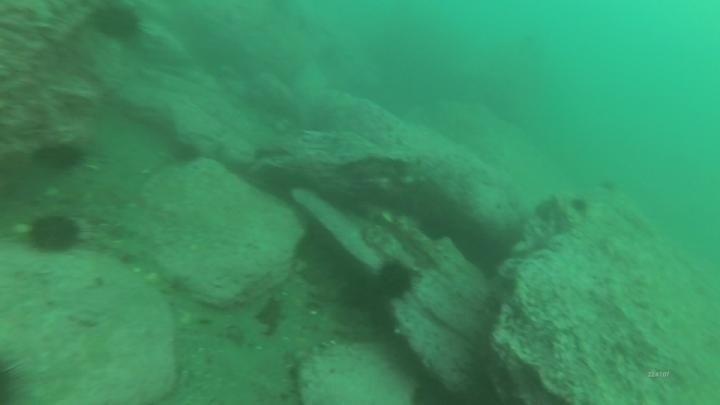echinus: (25, 211, 83, 256), (88, 3, 144, 45), (337, 265, 384, 314), (373, 257, 417, 302), (32, 139, 87, 173), (1, 355, 29, 405), (167, 137, 202, 168), (568, 195, 592, 218)
